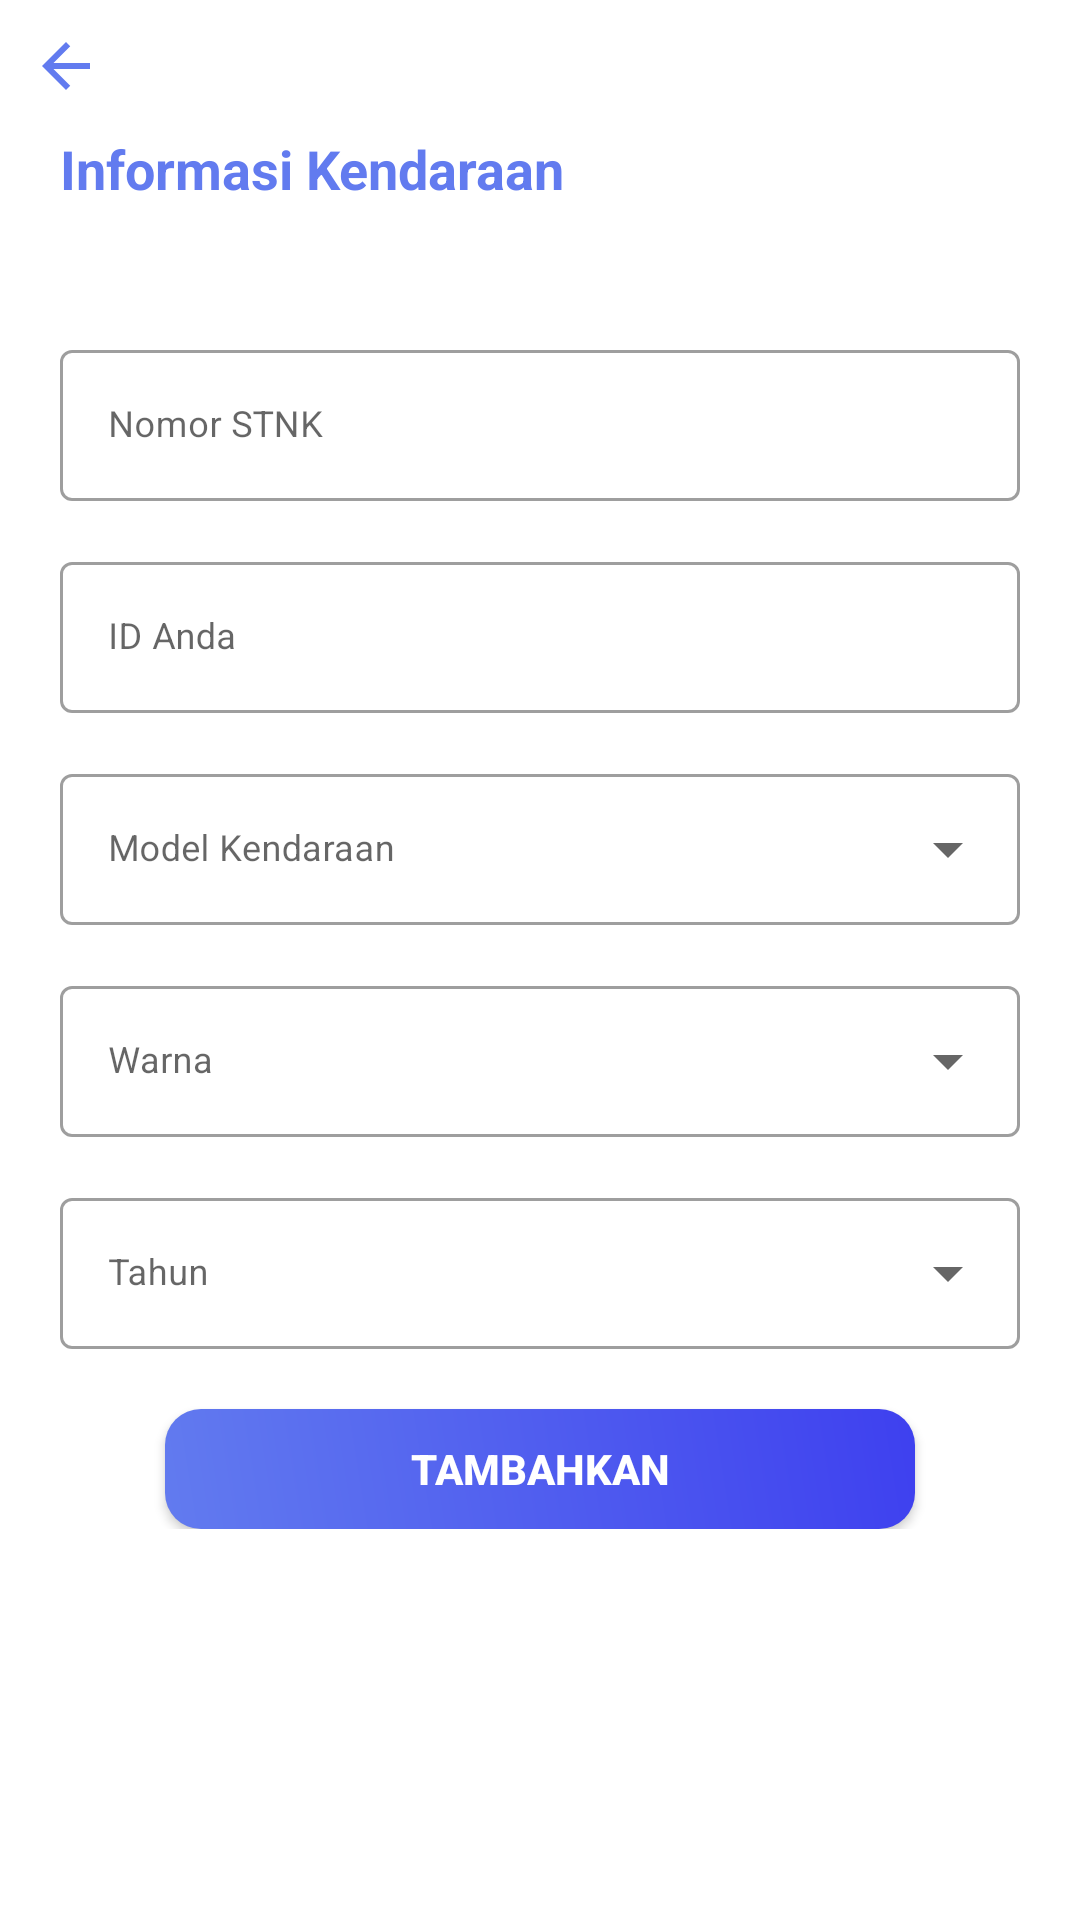

Where to tap for icons on this 1080px×1920px app screen, as (x,y):
arrow back: (66,66)
